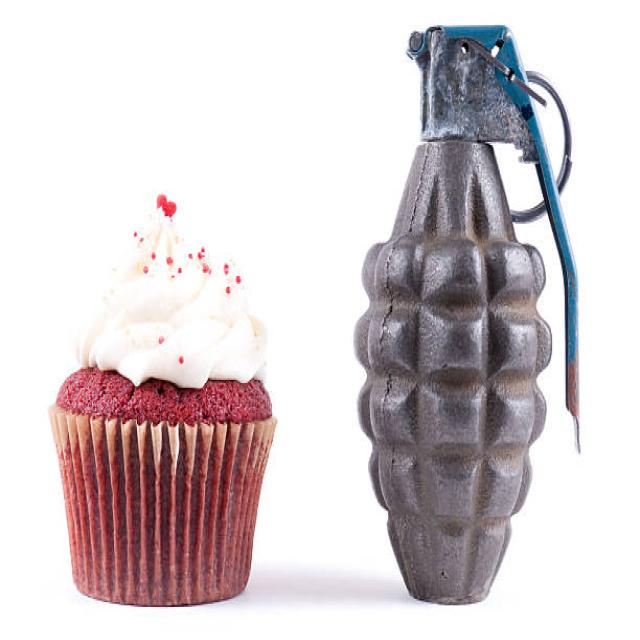grenade: (336, 13, 595, 615)
